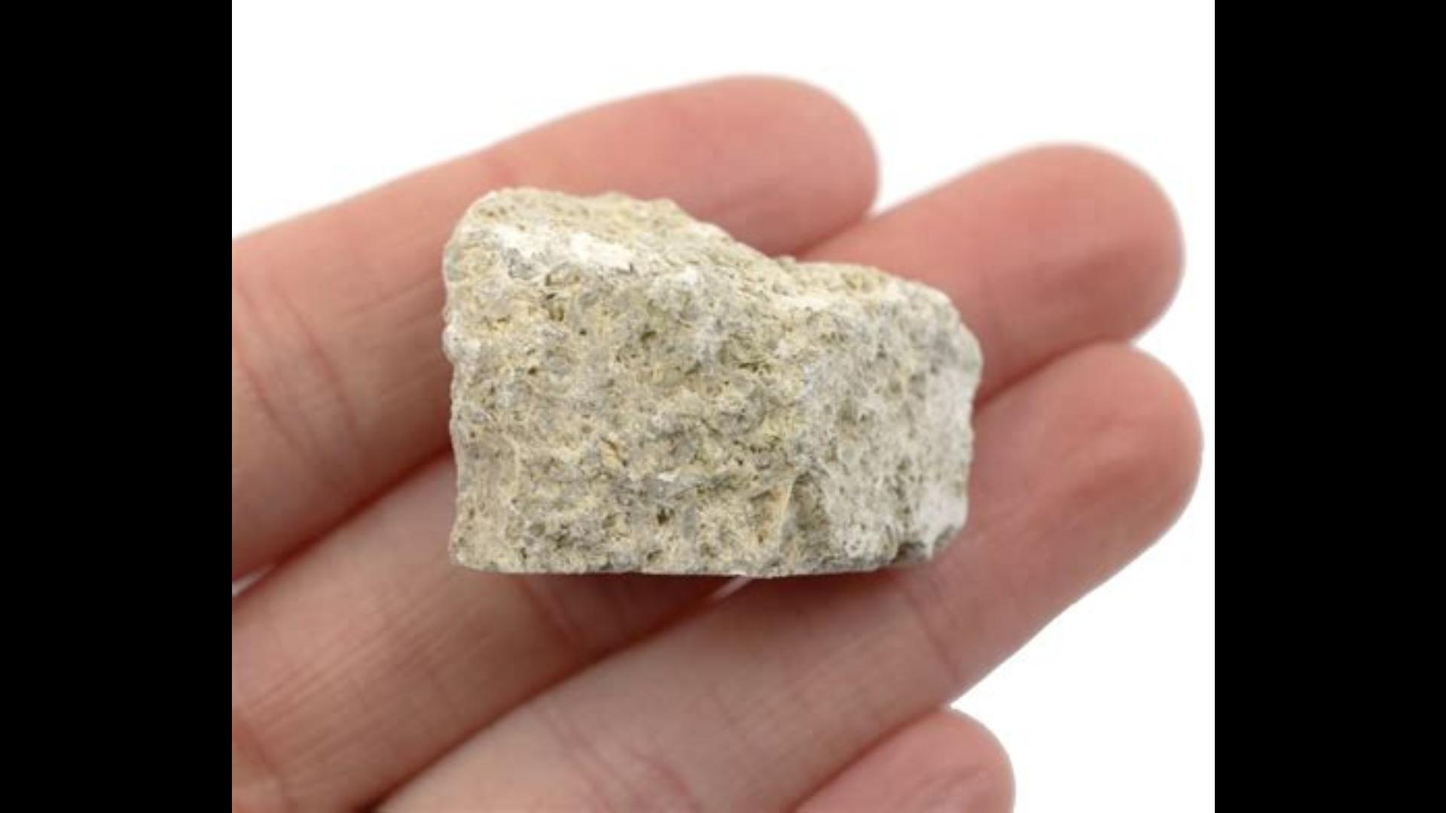rock: (443, 189, 978, 570)
